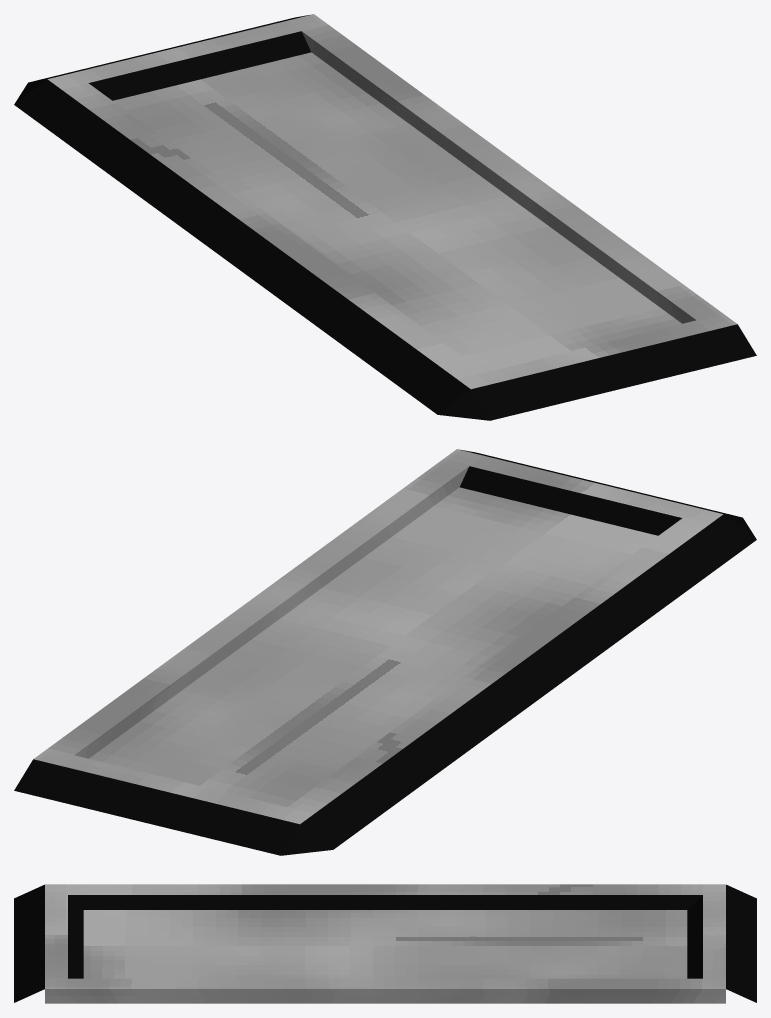
Rendered from fount.fbx.
3 renders of one model, top to bottom at view 1: azimuth 30°, elevation 25°; view 2: azimuth 150°, elevation 25°; view 3: azimuth 270°, elevation 25°, orthographic. The views are drawn at different scales.
Visible parts, largest first — view 1: FountainL; view 2: FountainL; view 3: FountainL.
Part boxes in pixels (bbox=[...]): FountainL: bbox=[14, 14, 756, 420]; FountainL: bbox=[14, 449, 756, 855]; FountainL: bbox=[14, 884, 756, 1003].
Size of the model in its own units: 900 by 2400 by 51.24.
